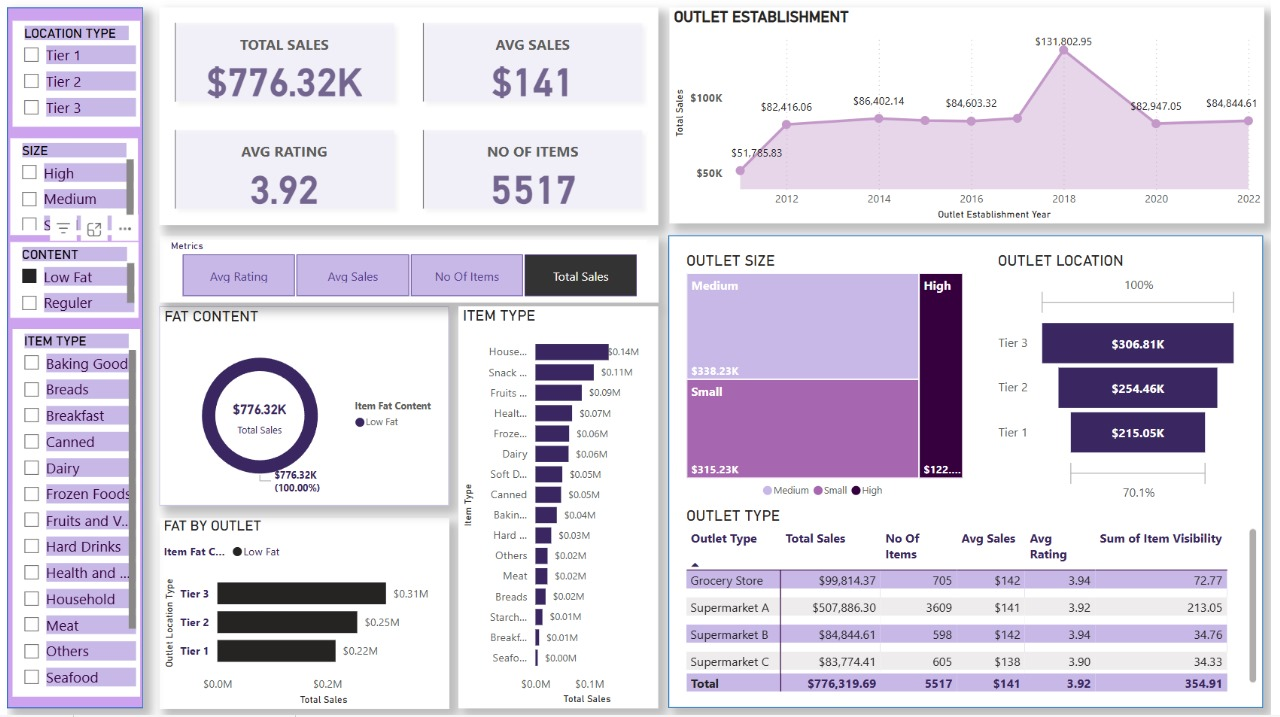

This screenshot's page, from the dashboard's own definition file:
{"tool":"powerbi","page":{"name":"Page 1","canvas":[1400,800],"ordinal":0},"visuals":[{"type":"shape","box":[0,13.7,151,776.5],"z":0},{"type":"cardVisual","fields":{"Data":["BlinkIT Grocery Data.Total Sales","BlinkIT Grocery Data.Avg Sales","BlinkIT Grocery Data.Avg Rating","BlinkIT Grocery Data.No Of Items"]},"box":[168.6,13.7,552.9,241.2],"z":1000},{"type":"donutChart","title":"FAT CONTENT","fields":{"Y":["BlinkIT Grocery Data.Total Sales"],"Category":["BlinkIT Grocery Data.Item Fat Content"]},"box":[168.3,345,320.8,220.8],"z":2000},{"type":"slicer","fields":{"Values":["Metrics.Metrics"]},"box":[168.6,266.7,552.9,74.5],"z":3000},{"type":"cardVisual","fields":{"Data":["BlinkIT Grocery Data.Total Sales"]},"box":[220.9,430,117.3,80.9],"z":4000},{"type":"clusteredBarChart","title":"FAT BY OUTLET","fields":{"Y":["BlinkIT Grocery Data.Total Sales"],"Category":["BlinkIT Grocery Data.Outlet Location Type"],"Series":["BlinkIT Grocery Data.Item Fat Content"]},"box":[168.6,578.4,321.6,211.8],"z":5000},{"type":"areaChart","title":"OUTLET ESTABLISHMENT","fields":{"Y":["BlinkIT Grocery Data.Total Sales"],"Category":["BlinkIT Grocery Data.Outlet Establishment Year"]},"box":[733.3,13.7,658.8,239.2],"z":6000},{"type":"clusteredBarChart","title":"ITEM TYPE","fields":{"Y":["BlinkIT Grocery Data.Total Sales"],"Category":["BlinkIT Grocery Data.Item Type"]},"box":[500,345.1,221.6,445.1],"z":7000},{"type":"shape","box":[732.5,266.2,658.8,523.8],"z":8000},{"type":"treemap","title":"OUTLET SIZE","fields":{"Values":["BlinkIT Grocery Data.Total Sales"],"Group":["BlinkIT Grocery Data.Outlet Size"]},"box":[747.1,284.3,315.7,282.9],"z":9000},{"type":"funnel","title":"OUTLET LOCATION","fields":{"Y":["BlinkIT Grocery Data.Total Sales"],"Category":["BlinkIT Grocery Data.Outlet Location Type"]},"box":[1092.9,284.3,275.7,282.9],"z":10000},{"type":"pivotTable","title":"OUTLET TYPE","fields":{"Values":["BlinkIT Grocery Data.Total Sales","BlinkIT Grocery Data.No Of Items","BlinkIT Grocery Data.Avg Sales","BlinkIT Grocery Data.Avg Rating","Sum(BlinkIT Grocery Data.Item Visibility)"],"Rows":["BlinkIT Grocery Data.Outlet Type"]},"box":[747.9,566.3,641.8,210.3],"z":11000},{"type":"slicer","fields":{"Values":["BlinkIT Grocery Data.Outlet Location Type"]},"box":[5.7,28.6,141.4,117.1],"z":12000},{"type":"slicer","fields":{"Values":["BlinkIT Grocery Data.Outlet Size"]},"box":[4.3,158.6,141.4,107.1],"z":13000},{"type":"slicer","fields":{"Values":["BlinkIT Grocery Data.Item Fat Content"]},"box":[4,274,142,84],"z":14000},{"type":"slicer","fields":{"Values":["BlinkIT Grocery Data.Item Type"]},"box":[5.7,370,141.4,407.1],"z":15000}]}

Visuals, with their boxes in screenshot pixels (x1, y1, x2, y2), scaled from the page's 1400x800 canvas onto the 1280x717 screenshot:
shape: (0,12,138,708)
cardVisual - BlinkIT Grocery Data.Total Sales x BlinkIT Grocery Data.Avg Sales: (154,12,660,228)
"FAT CONTENT" donutChart: (154,309,447,507)
slicer - Metrics.Metrics: (154,239,660,306)
cardVisual - BlinkIT Grocery Data.Total Sales: (202,385,309,458)
"FAT BY OUTLET" clusteredBarChart: (154,518,448,708)
"OUTLET ESTABLISHMENT" areaChart: (670,12,1273,227)
"ITEM TYPE" clusteredBarChart: (457,309,660,708)
shape: (670,239,1272,708)
"OUTLET SIZE" treemap: (683,255,972,508)
"OUTLET LOCATION" funnel: (999,255,1251,508)
"OUTLET TYPE" pivotTable: (684,508,1271,696)
slicer - BlinkIT Grocery Data.Outlet Location Type: (5,26,134,131)
slicer - BlinkIT Grocery Data.Outlet Size: (4,142,133,238)
slicer - BlinkIT Grocery Data.Item Fat Content: (4,246,133,321)
slicer - BlinkIT Grocery Data.Item Type: (5,332,134,696)
